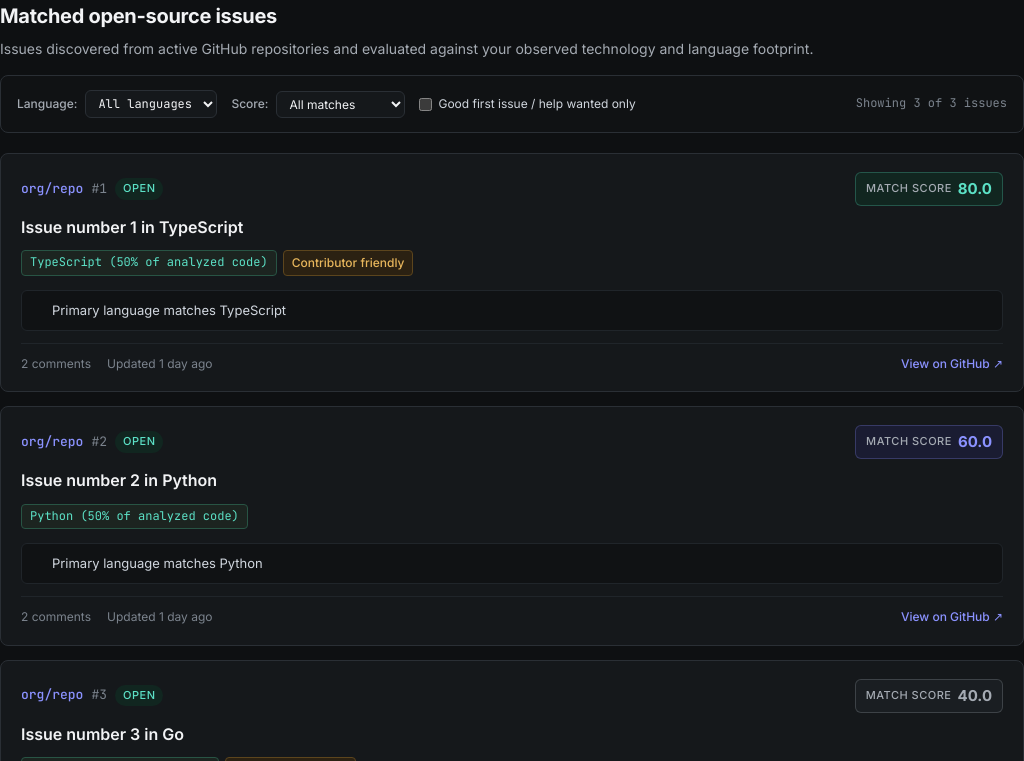
Test: MatchedIssuesSection component › filters by minimum score threshold
This screenshot has width=1024, height=761.
Select "75+ High Match" in the dropdown labelled "Score:" at (341, 104), box [276,90,406,118]
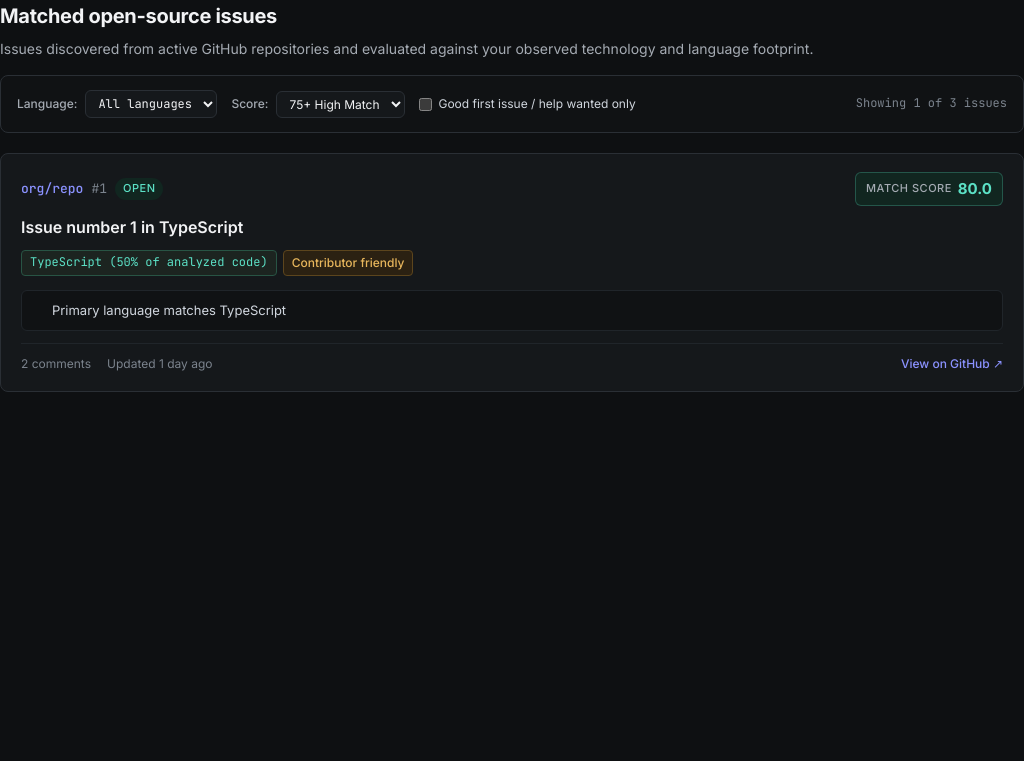
Result: the text "Showing 1 of 3 issues" is shown at [856,94,1007,114]
Result: the link "Issue number 2 in Python" is gone
Result: the link "Issue number 3 in Go" is gone
